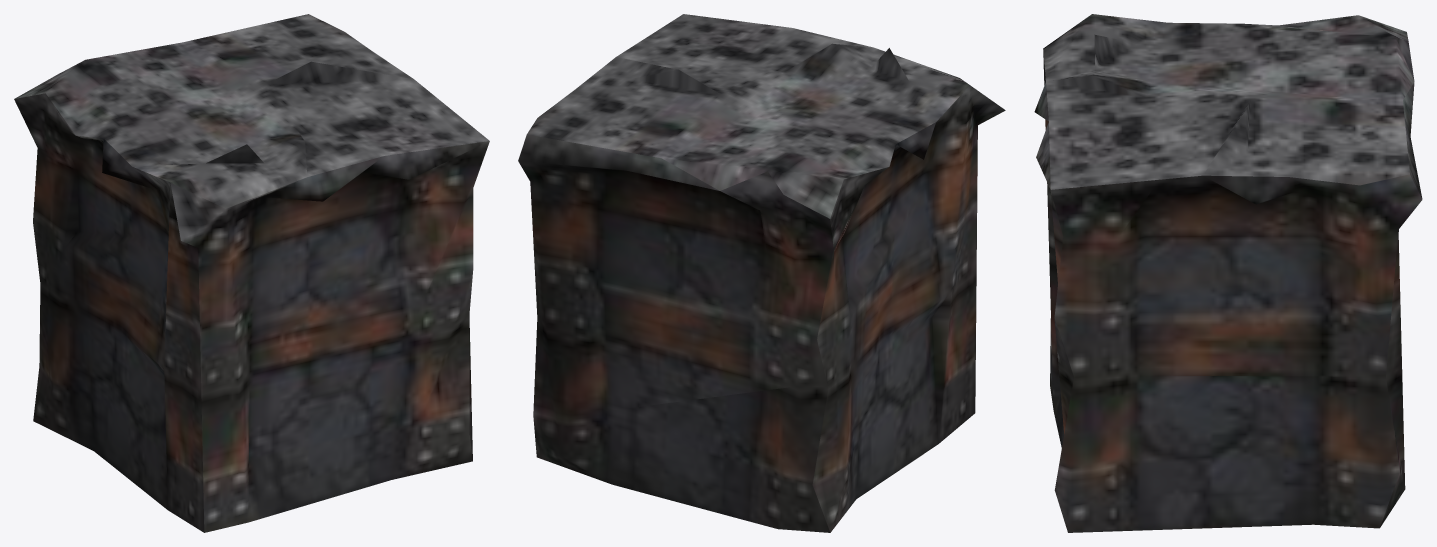
File: b_braises_mur_3_lo.glb
3 renders of one model, left to right at view 1: azimuth 30°, elevation 25°; view 2: azimuth 150°, elevation 25°; view 3: azimuth 270°, elevation 25°, orthographic. The views are drawn at different scales.
Visible parts, largest first — view 1: geometry_0; view 2: geometry_0; view 3: geometry_0.
Part boxes in pixels (box(x1,y1,x2,y2)): geometry_0: box(14, 14, 489, 532); geometry_0: box(518, 14, 1005, 532); geometry_0: box(1034, 14, 1422, 532).
Bounding box in the file's own units: 1 × 1.1 × 0.9934.
Materials: 1 (1 with a texture image).
